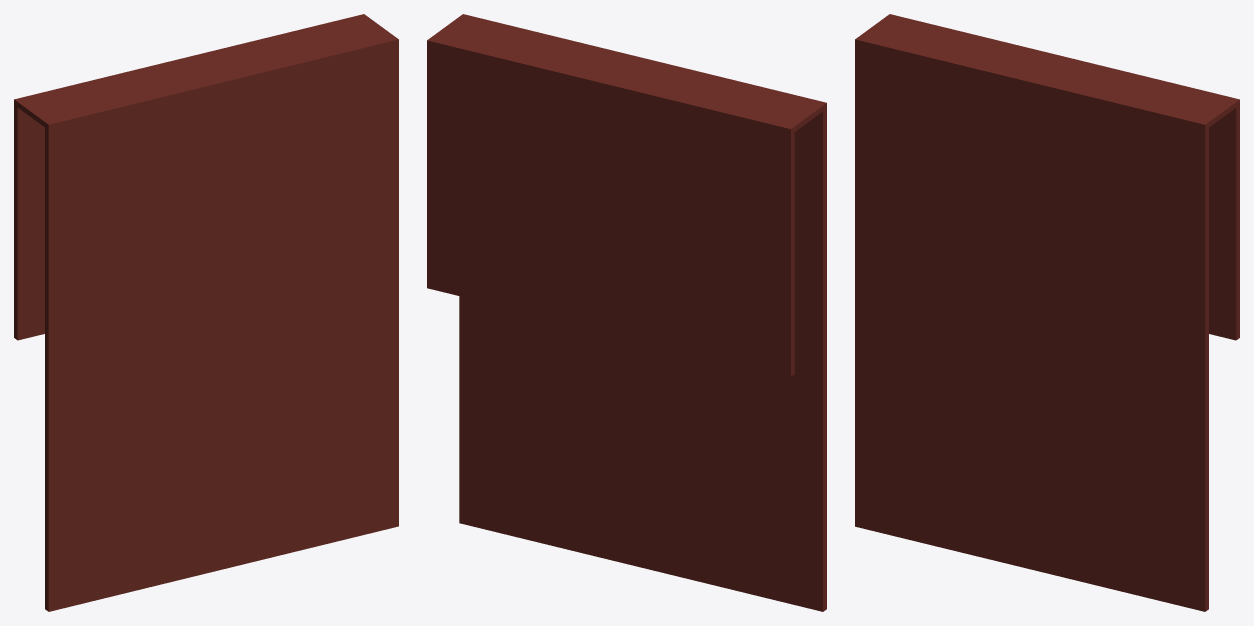
File: Itr_Towel_07.FBX
3 views of the same model, side by side, from view 1: azimuth 30°, elevation 25°; view 2: azimuth 150°, elevation 25°; view 3: azimuth 330°, elevation 25° (orthographic). The views are drawn at different scales.
Parts seen in each view (by area): view 1: Itr_Towel_07; view 2: Itr_Towel_07; view 3: Itr_Towel_07.
Part boxes in pixels (bbox=[...]): Itr_Towel_07: bbox=[14, 14, 398, 611]; Itr_Towel_07: bbox=[427, 14, 826, 611]; Itr_Towel_07: bbox=[855, 14, 1239, 611].
Size of the model in its own units: 17.26 by 22.96 by 2.97.
